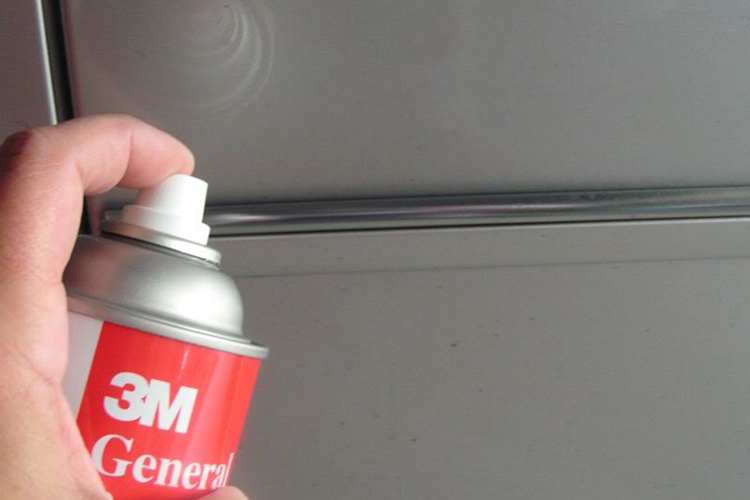3M: (92, 358, 203, 439)
